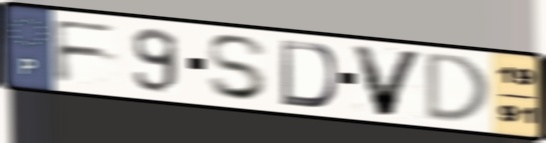9: (130, 26, 181, 94)
D: (422, 50, 493, 124), (277, 37, 341, 110)
F: (49, 17, 122, 85)
S: (204, 33, 272, 103)
V: (347, 42, 428, 119)
